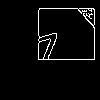Z: (26, 23, 67, 75)
